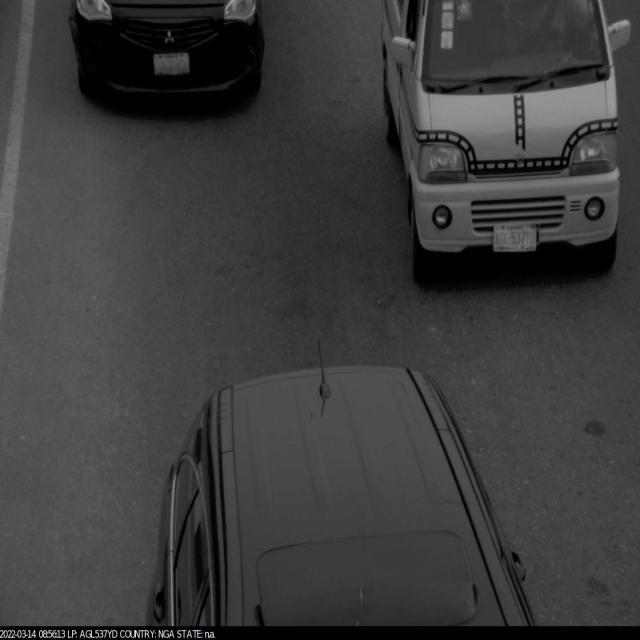windshield: (413, 0, 615, 102)
